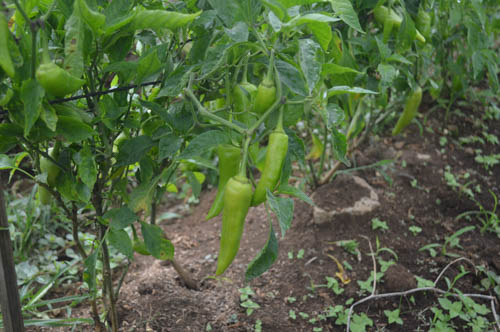ChiliPepper: (218, 180, 250, 277), (207, 144, 242, 227), (254, 134, 288, 208), (35, 69, 88, 100), (235, 86, 258, 148), (393, 89, 420, 138), (254, 88, 273, 113)
